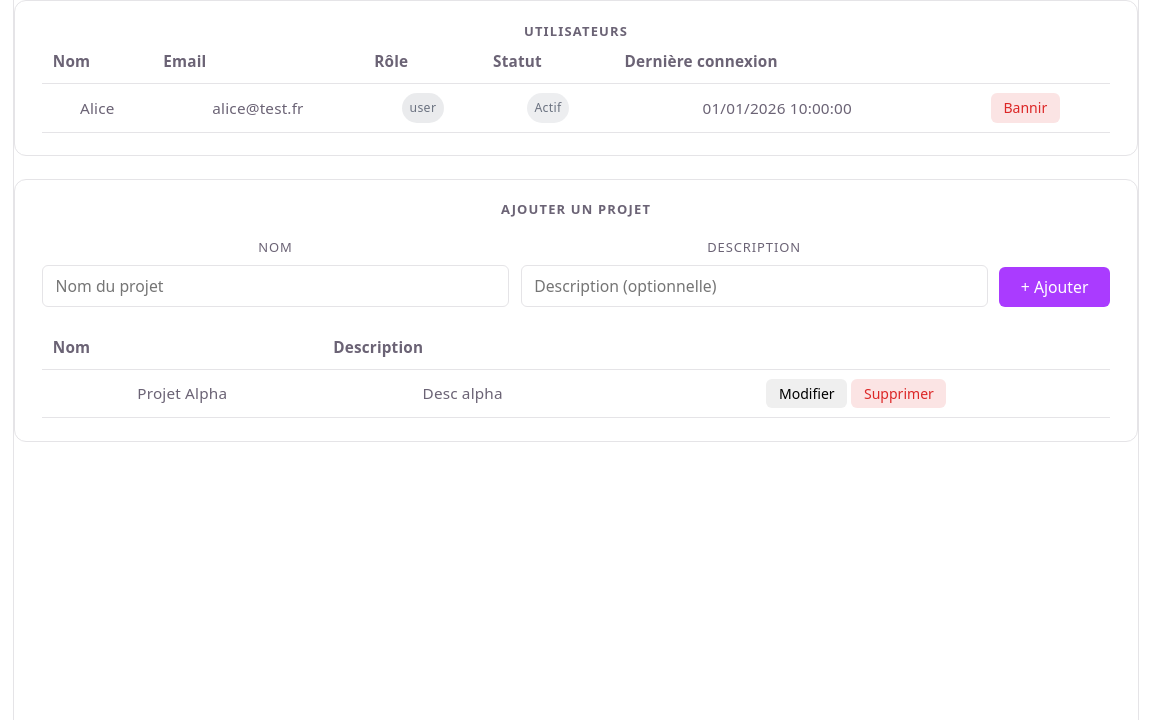
Test: Moderation › annule l'édition d'un projet
Expected: the text "alice@test.fr" is shown, [152, 83, 364, 132]
Click the button "Modifier". click: (807, 394)
box: [766, 379, 847, 408]
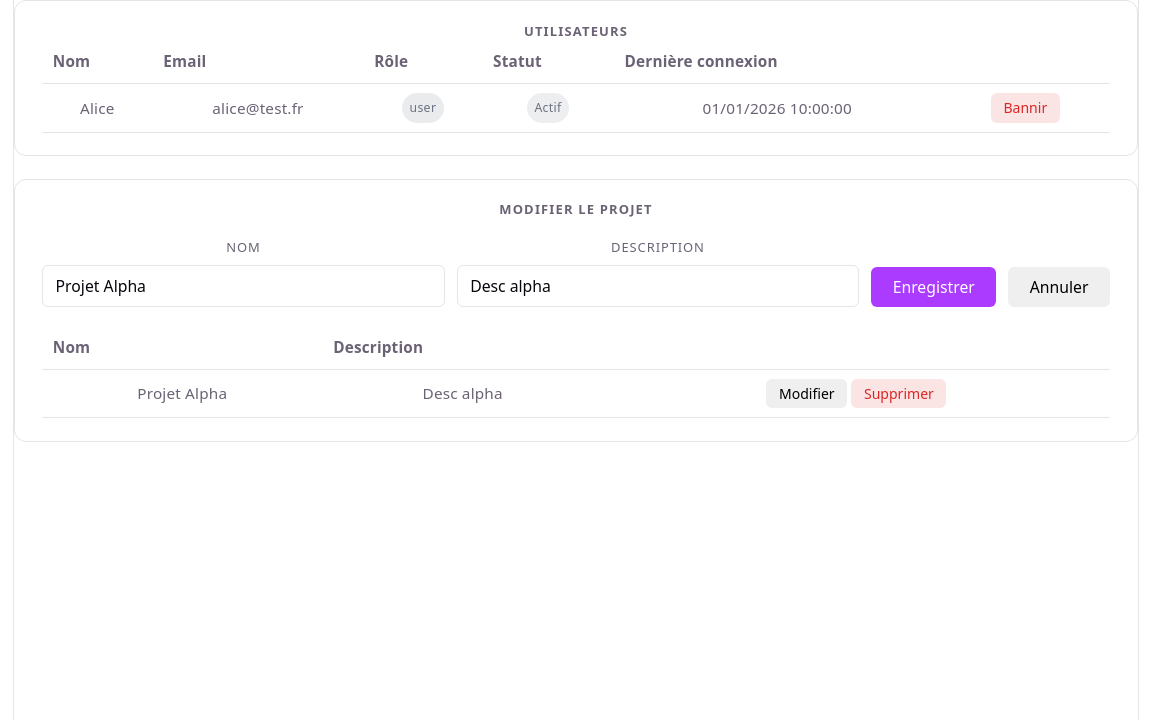
Now the heading "Modifier le projet" is shown, box [499, 200, 653, 218]
Click the button "Annuler". click: (1059, 286)
box: [1008, 266, 1110, 306]
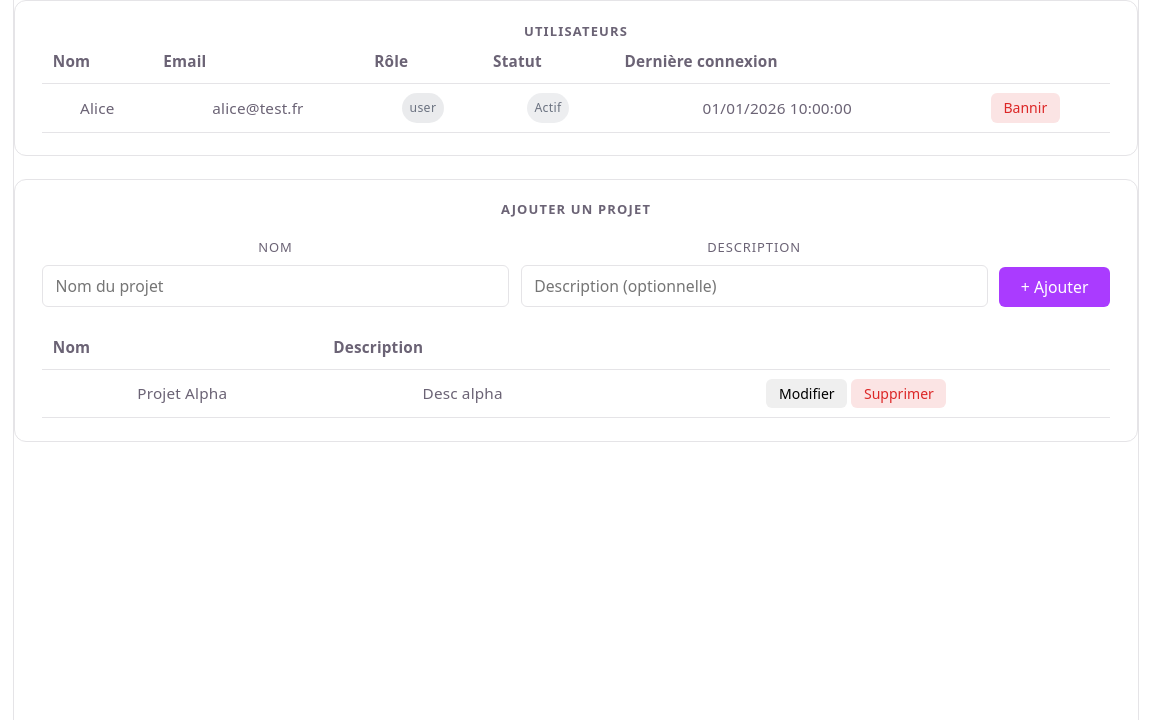
Now the heading "Ajouter un projet" is shown, box [501, 200, 651, 218]
